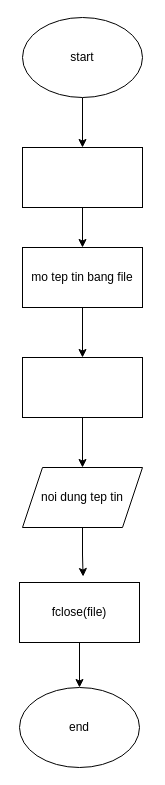
This 165x785 diagram has some shape labels left out. Each missing label, with the box of its shape:
FILE *file; char buffer[100];: (22, 146, 142, 208)
fread(buffer,sizeof(char), sizeof(buffer),file);: (22, 356, 142, 418)
